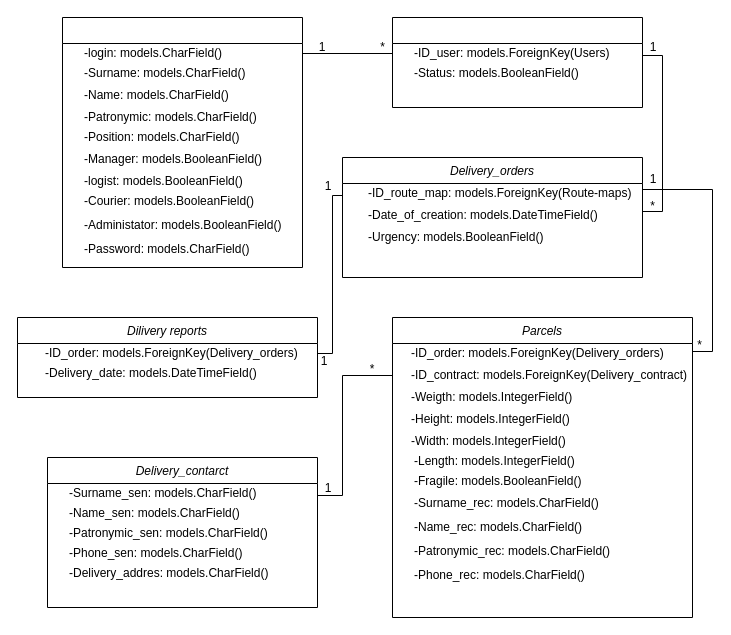
This 731x635 diagram has some shape labels left out. The shapes that lost their labels are listed below. From the top down, each one's box as (x1, y1, x2, y2) in pixels, then its label:
(392, 16, 642, 108): Route_maps
(62, 16, 302, 268): Users
